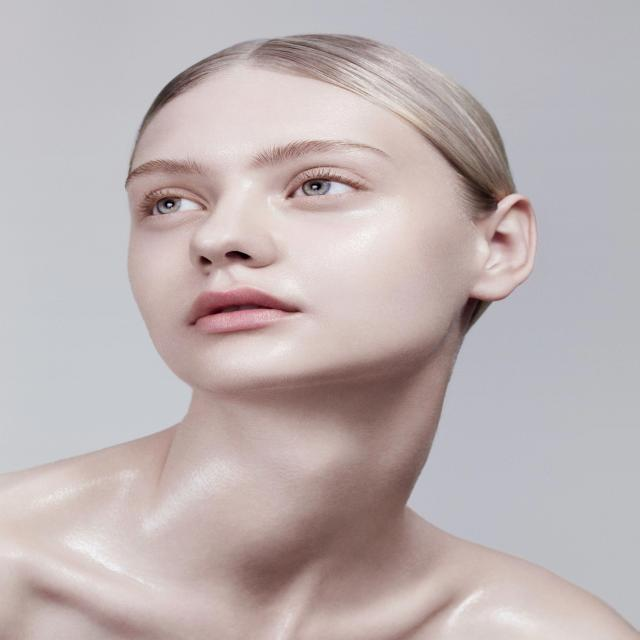earlobe: (474, 192, 540, 302)
